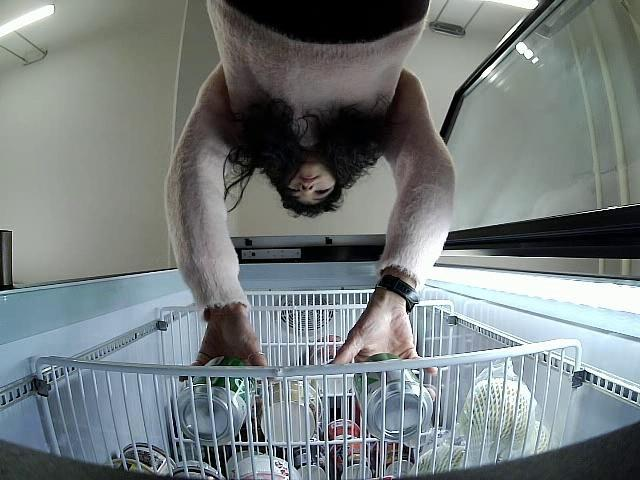12_chilsungCider: (352, 353, 433, 444), (178, 355, 256, 443)
